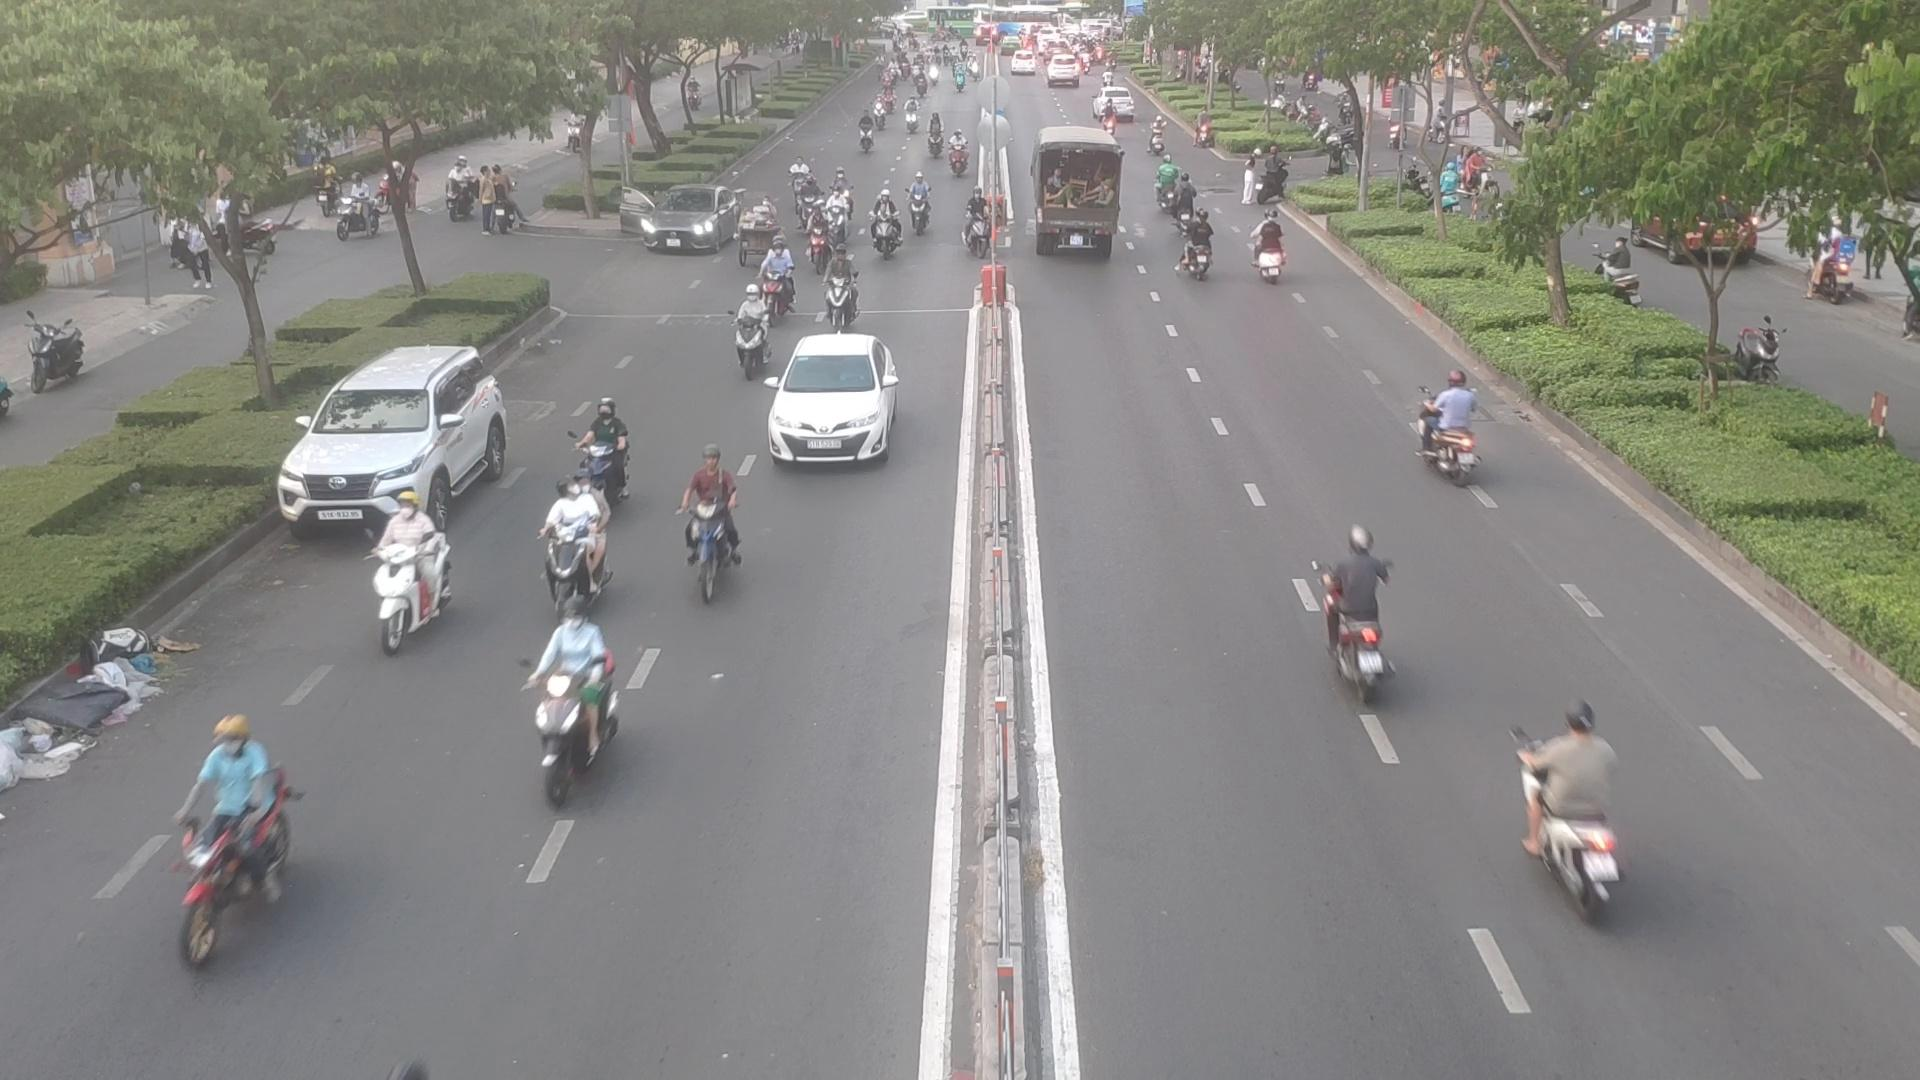car: (282, 343, 520, 526), (760, 334, 903, 463), (616, 191, 746, 258)
motorbike: (140, 717, 297, 972), (1516, 703, 1643, 907), (524, 608, 641, 785), (1303, 530, 1398, 691), (357, 496, 459, 645), (675, 463, 761, 599), (533, 479, 611, 609), (1412, 372, 1493, 477), (574, 401, 638, 491), (724, 299, 774, 373), (824, 247, 861, 330), (1250, 216, 1294, 282), (1143, 165, 1196, 219), (1174, 218, 1217, 280), (764, 233, 796, 314), (866, 204, 905, 262), (905, 174, 939, 233), (967, 189, 994, 261), (806, 208, 831, 273), (945, 137, 977, 181), (855, 117, 880, 154)
